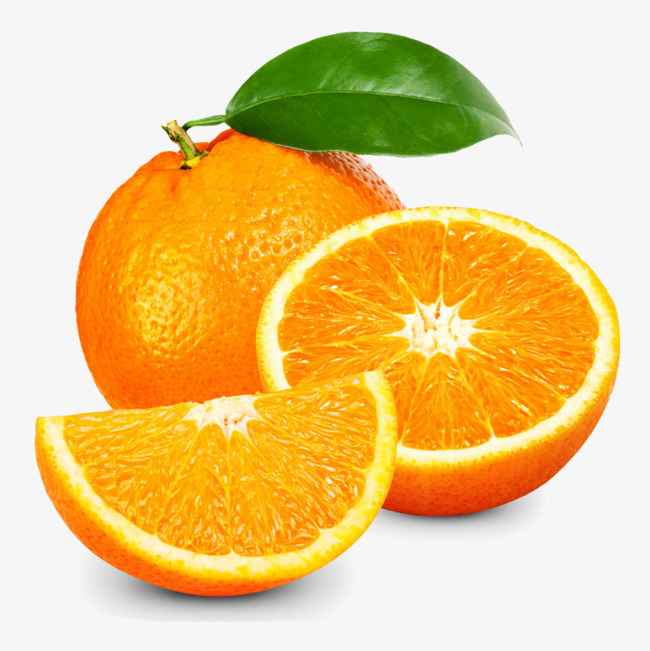orange: (61, 130, 415, 473)
